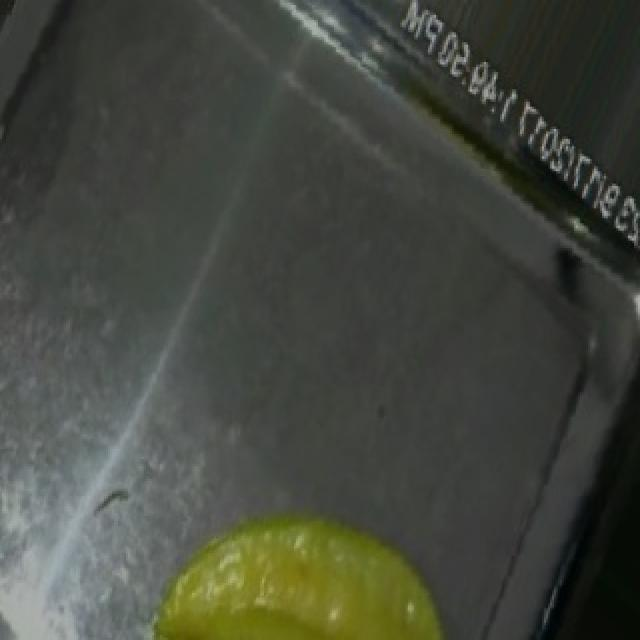fruit: (114, 469, 498, 640)
